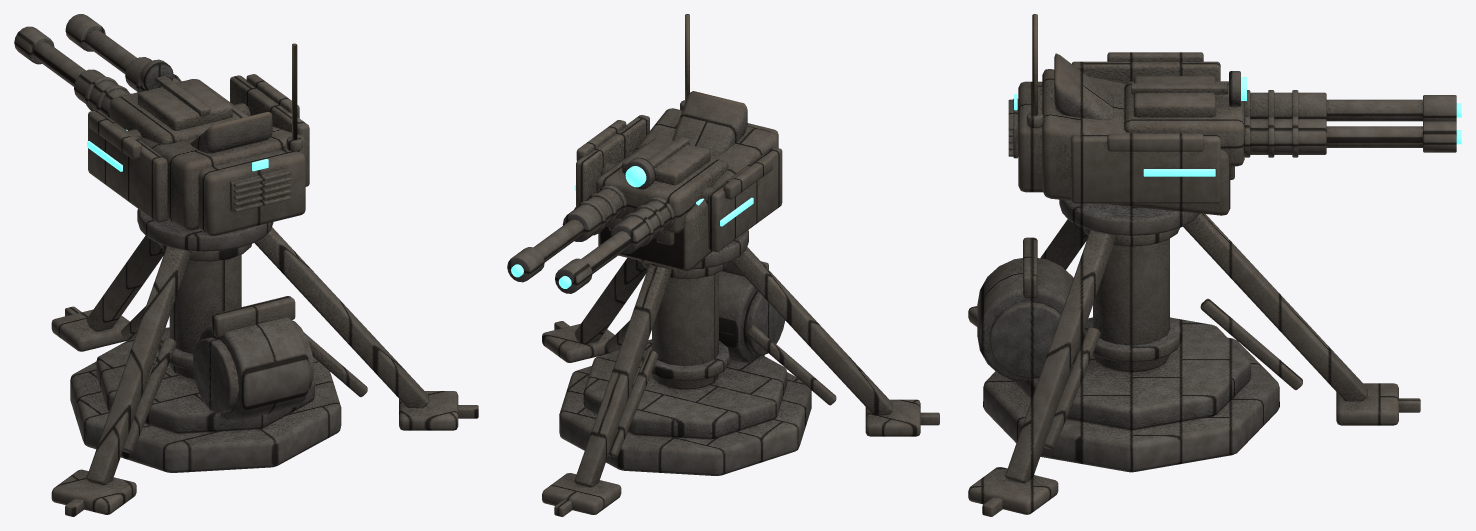
File: turret.glb
3 renders of one model, left to right at view 1: azimuth 30°, elevation 25°; view 2: azimuth 150°, elevation 25°; view 3: azimuth 270°, elevation 25°, orthographic. The views are drawn at different scales.
Visible parts, largest first — view 1: BaseMesh, ShroudMesh, GunMesh; view 2: BaseMesh, ShroudMesh, GunMesh, HeadGlowMesh; view 3: BaseMesh, ShroudMesh, GunMesh, HeadGlowMesh.
Part boxes in pixels (left/top/right/bottom): BaseMesh: left=51, top=209, right=478, bottom=516; ShroudMesh: left=88, top=43, right=309, bottom=236; GunMesh: left=14, top=14, right=250, bottom=144; BaseMesh: left=542, top=230, right=939, bottom=516; ShroudMesh: left=576, top=14, right=782, bottom=271; GunMesh: left=507, top=137, right=728, bottom=293; HeadGlowMesh: left=574, top=166, right=753, bottom=226; BaseMesh: left=968, top=199, right=1420, bottom=516; ShroudMesh: left=1008, top=14, right=1240, bottom=215; GunMesh: left=1124, top=76, right=1456, bottom=179; HeadGlowMesh: left=1014, top=77, right=1246, bottom=176.
Bounding box in the file's own units: 2.1 × 1.92 × 2.05.
Materials: 2 (1 with a texture image).
